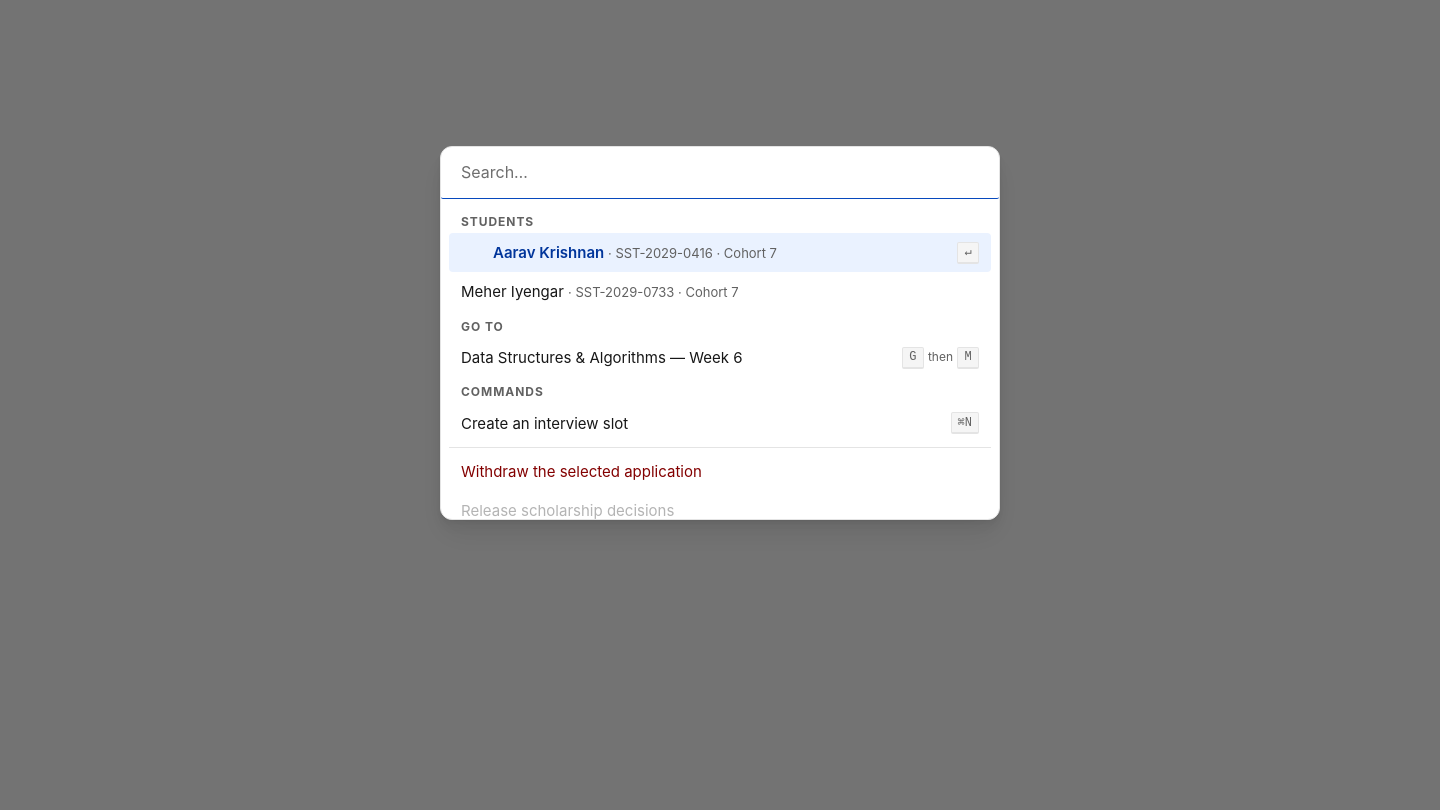
CommandPalette › filters by every word, across label, detail and keywords, hiding empty sections
Step 1. Type "cohort 7 meher" into the dropdown → {"x": 720, "y": 173}, box [441,147,999,199]
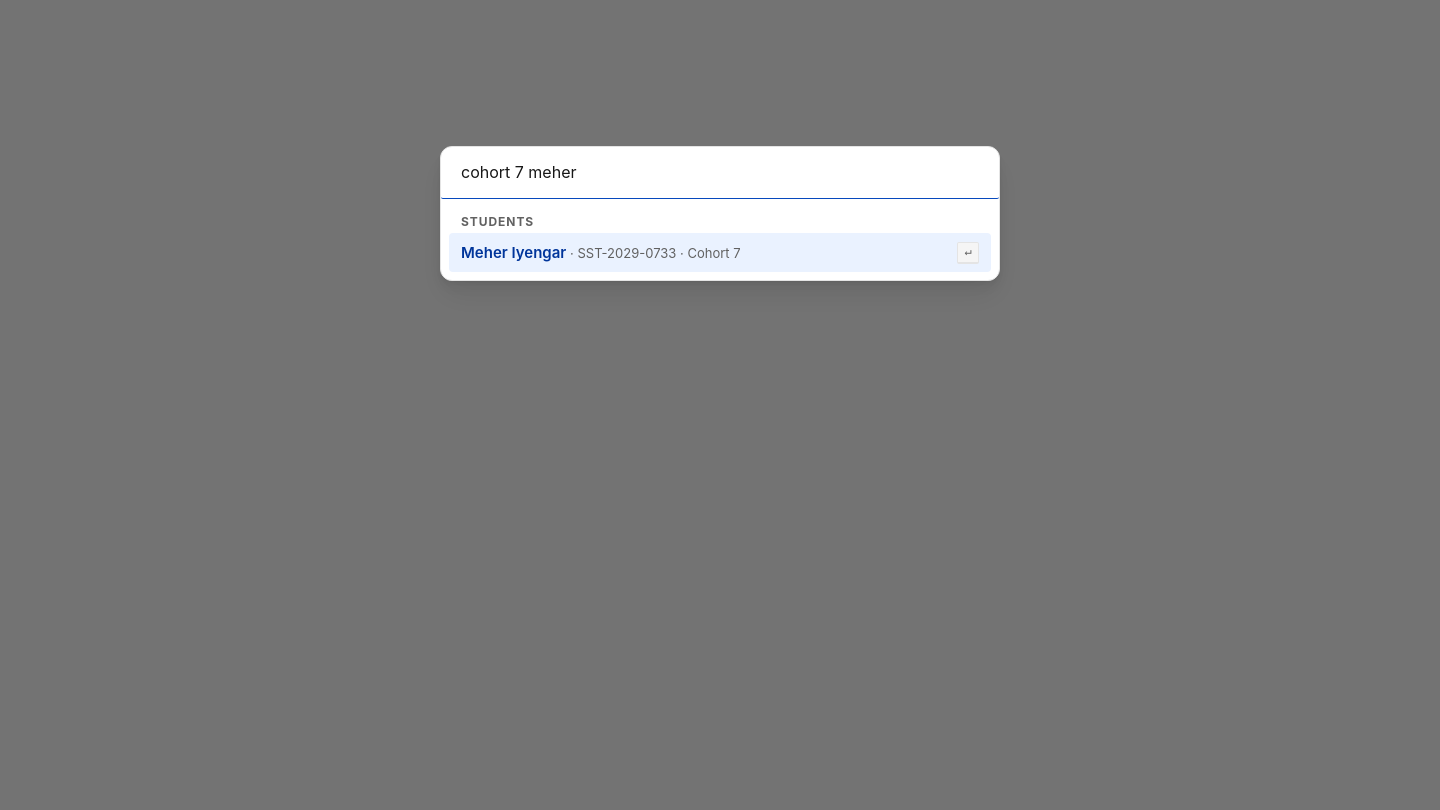
Expected: the option shows "Meher Iyengar", [449,233,991,272]
